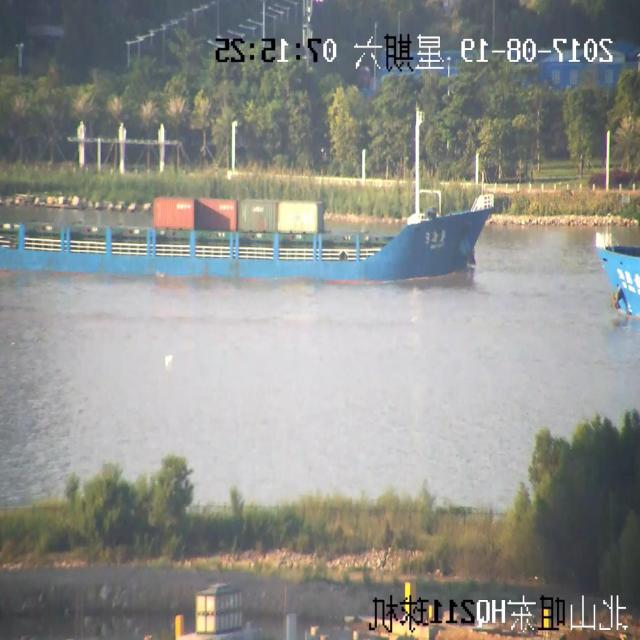cargoship: (0, 113, 513, 284)
